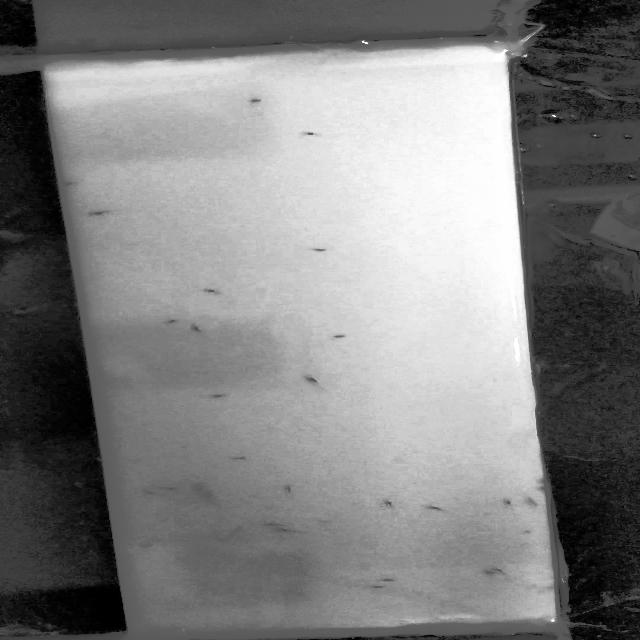shrimp: (522, 493, 548, 512), (477, 567, 512, 580), (85, 206, 118, 218), (329, 333, 361, 345), (134, 485, 164, 497), (426, 504, 456, 516), (58, 177, 85, 190), (247, 96, 276, 108), (183, 324, 212, 336), (376, 493, 395, 511), (298, 128, 326, 139), (188, 480, 210, 494), (198, 285, 228, 295), (278, 526, 312, 534), (157, 314, 181, 325), (306, 246, 334, 255), (197, 488, 215, 502), (496, 562, 517, 574), (161, 484, 186, 494), (518, 528, 543, 538), (500, 499, 519, 512), (377, 573, 404, 582), (233, 454, 253, 463), (261, 521, 284, 527), (370, 583, 396, 588), (306, 375, 322, 383), (284, 484, 296, 494), (214, 393, 229, 399)
